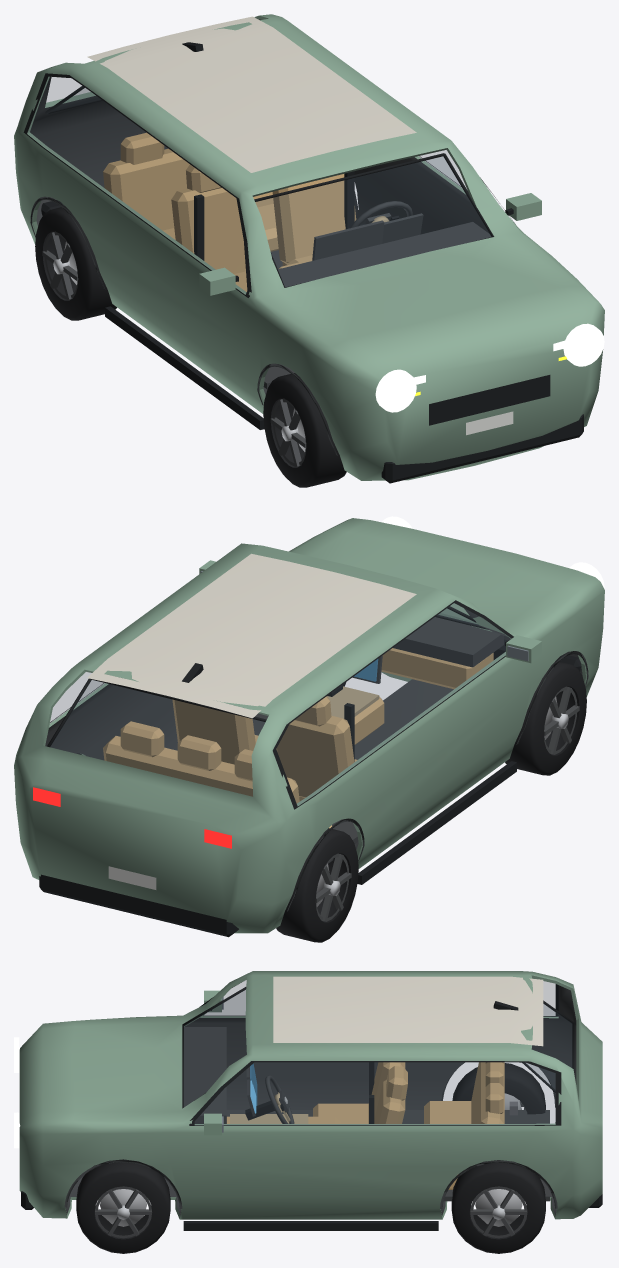
The model's file is fleet-mini.glb.
The picture shows the model from 3 angles, top to bottom: view 1: azimuth 30°, elevation 25°; view 2: azimuth 150°, elevation 25°; view 3: azimuth 270°, elevation 25°; orthographic projection. The views are drawn at different scales.
Parts seen in each view (by area): view 1: Body, Surface_CarRoot_Glass, ContrastRoofPanel, Interior_CarRoot_InteriorLeather, Surface_CarRoot_BlackTrim, Interior_CarRoot_InteriorDark, WheelFrontR_Tyre, WheelRearR_Tyre, Surface_CarRoot_Headlight, Surface_CarRoot_Paint, Interior_CarRoot_BlackTrim, Surface_WheelFrontR_Rim (+3 smaller); view 2: Body, Surface_CarRoot_Glass, ContrastRoofPanel, Interior_CarRoot_InteriorLeather, Surface_CarRoot_BlackTrim, WheelRearR_Tyre, Interior_CarRoot_InteriorDark, WheelFrontR_Tyre, Surface_WheelRearR_Rim, Surface_WheelFrontR_Rim, Interior_CarRoot_InteriorTrim, Surface_CarRoot_Taillight (+3 smaller); view 3: Body, Surface_CarRoot_Glass, ContrastRoofPanel, Interior_CarRoot_InteriorLeather, Surface_CarRoot_BlackTrim, WheelFrontL_Tyre, WheelRearL_Tyre, Interior_CarRoot_InteriorDark, WheelRearR_Tyre, Surface_WheelFrontL_Rim, Surface_WheelRearL_Rim, Surface_CarRoot_Cladding (+7 smaller).
Boxes of the visible parts, <box> form: Body: <box>14,14,604,480</box>; Surface_CarRoot_Glass: <box>27,77,501,293</box>; ContrastRoofPanel: <box>87,16,416,172</box>; Interior_CarRoot_InteriorLeather: <box>103,132,356,291</box>; Surface_CarRoot_BlackTrim: <box>23,42,583,483</box>; Interior_CarRoot_InteriorDark: <box>60,213,491,389</box>; WheelFrontR_Tyre: <box>263,373,346,487</box>; WheelRearR_Tyre: <box>35,206,116,320</box>; Surface_CarRoot_Headlight: <box>375,323,604,412</box>; Surface_CarRoot_Paint: <box>199,193,541,295</box>; Interior_CarRoot_BlackTrim: <box>194,171,354,260</box>; Surface_WheelFrontR_Rim: <box>270,399,306,466</box>; Body: <box>14,518,604,933</box>; Surface_CarRoot_Glass: <box>50,603,510,805</box>; ContrastRoofPanel: <box>87,553,416,718</box>; Interior_CarRoot_InteriorLeather: <box>103,648,493,828</box>; Surface_CarRoot_BlackTrim: <box>39,600,580,937</box>; WheelRearR_Tyre: <box>276,828,358,942</box>; Interior_CarRoot_InteriorDark: <box>252,617,503,863</box>; WheelFrontR_Tyre: <box>505,661,586,775</box>; Surface_WheelRearR_Rim: <box>315,853,351,921</box>; Surface_WheelFrontR_Rim: <box>544,686,579,754</box>; Interior_CarRoot_InteriorTrim: <box>327,686,379,718</box>; Surface_CarRoot_Taillight: <box>33,787,231,848</box>; Body: <box>19,971,602,1219</box>; Surface_CarRoot_Glass: <box>184,980,572,1124</box>; ContrastRoofPanel: <box>273,976,543,1046</box>; Interior_CarRoot_InteriorLeather: <box>226,1062,504,1189</box>; Surface_CarRoot_BlackTrim: <box>21,984,602,1230</box>; WheelFrontL_Tyre: <box>76,1159,170,1253</box>; WheelRearL_Tyre: <box>451,1160,545,1253</box>; Interior_CarRoot_InteriorDark: <box>184,1027,549,1201</box>; WheelRearR_Tyre: <box>452,1063,545,1114</box>; Surface_WheelFrontL_Rim: <box>95,1186,152,1238</box>; Surface_WheelRearL_Rim: <box>470,1186,527,1238</box>; Surface_CarRoot_Cladding: <box>64,1067,557,1208</box>.
Size of the model in its own units: 2.1 by 1.46 by 3.93.
